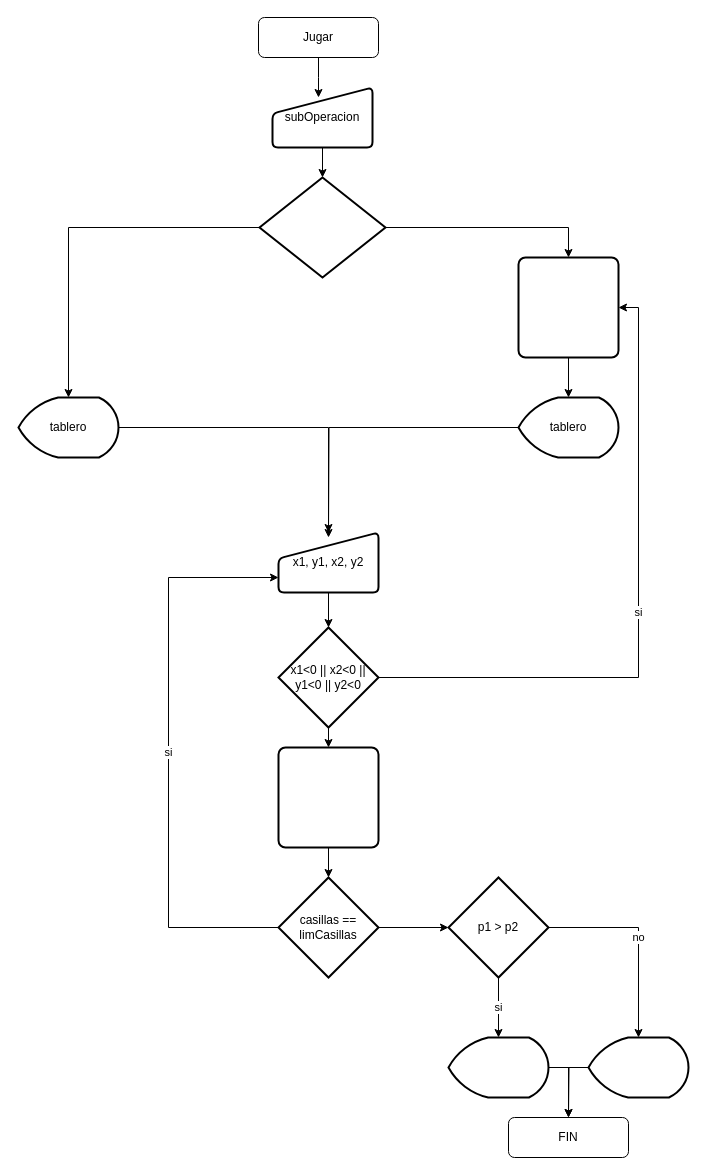
The diagram is 706 pixels wide and 1175 high, and some of its shapes have lost their labels. Each missing label, with the centre of its shape:
"Ganador Jugador 1": the point at 498,1067
"Ganador Jugador 2": the point at 638,1067
casillas +=1: the point at 328,797
subOperacion == 1: the point at 322,227
tablero = tableroGuardado: the point at 568,307
